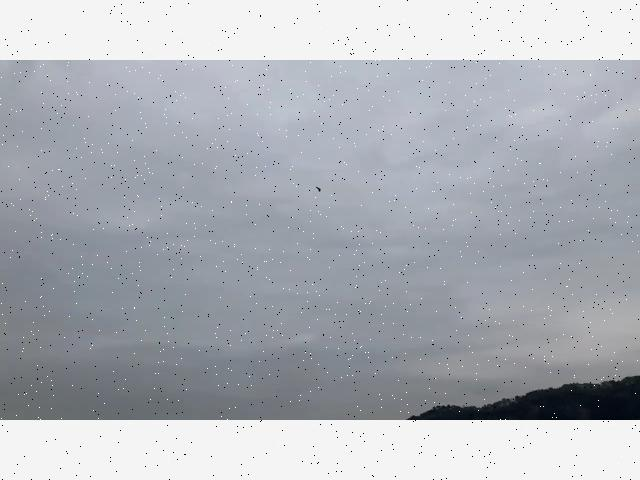Anti-Drone: (311, 184, 335, 196)
